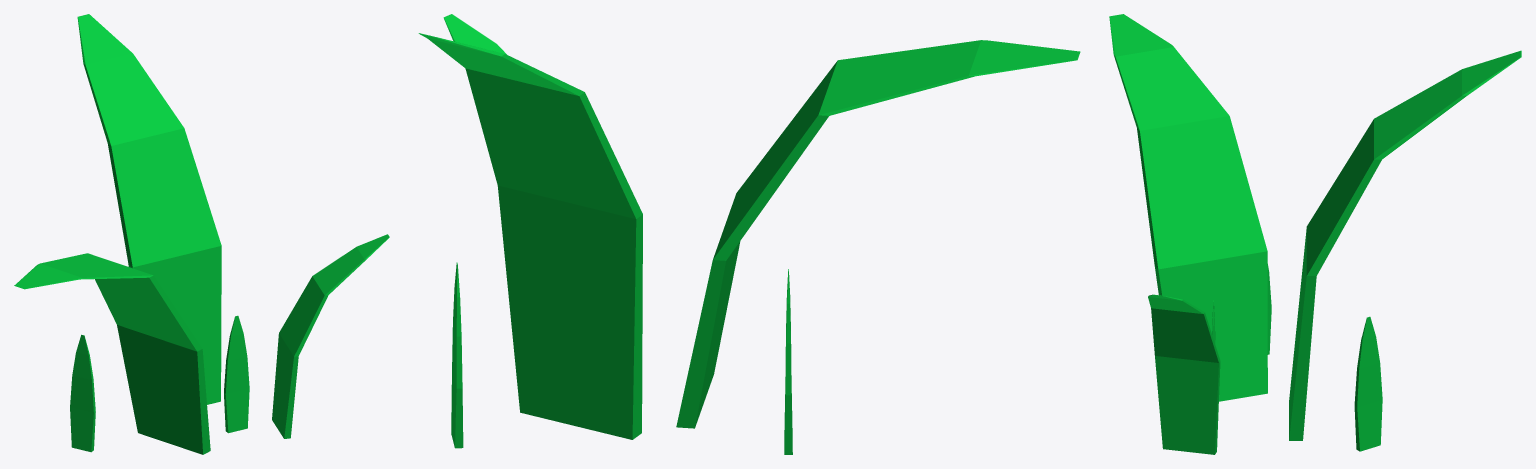
The model's file is Herbe_1.fbx.
The picture shows the model from 3 angles, left to right: view 1: azimuth 30°, elevation 25°; view 2: azimuth 150°, elevation 25°; view 3: azimuth 270°, elevation 25°; orthographic projection. The views are drawn at different scales.
Visible parts, largest first — view 1: herbe_1; view 2: herbe_1; view 3: herbe_1.
Boxes of the visible parts, left/top/right/bottom form: herbe_1: left=14, top=14, right=389, bottom=454; herbe_1: left=418, top=14, right=1080, bottom=454; herbe_1: left=1109, top=14, right=1521, bottom=454.
Size of the model in its own units: 23.7 by 18.6 by 18.95.
